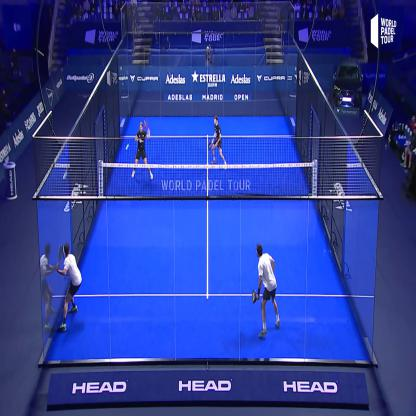ball: (122, 134, 132, 158)
